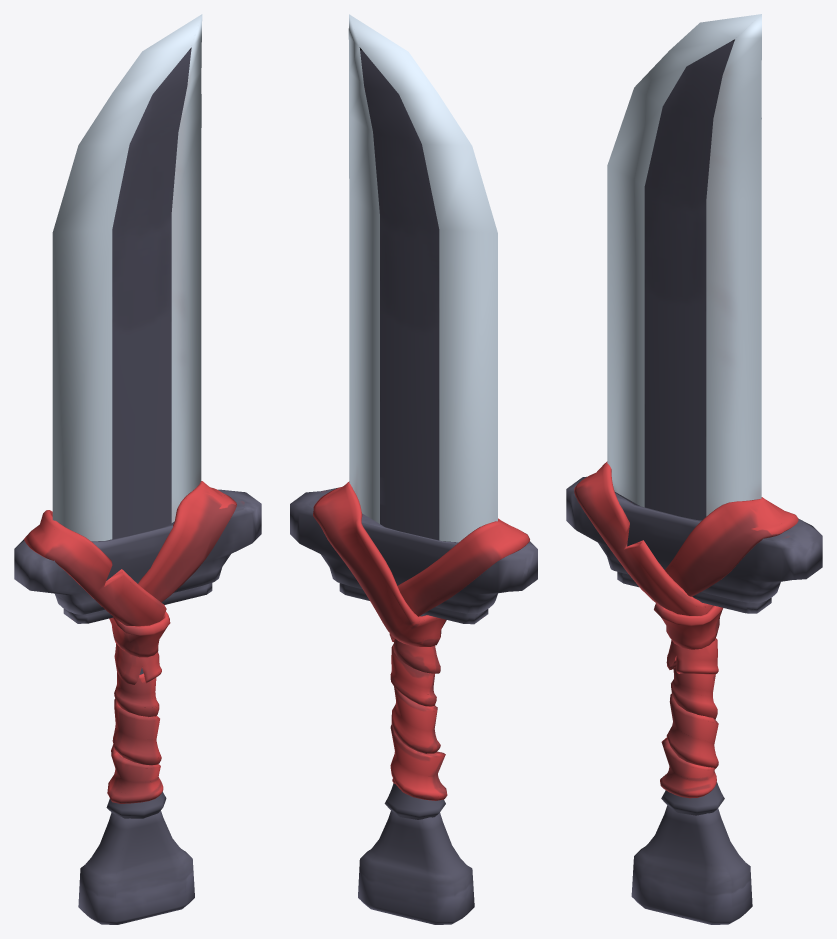
The model's file is EspadaMedia.fbx.
3 renders of one model, left to right at view 1: azimuth 30°, elevation 25°; view 2: azimuth 150°, elevation 25°; view 3: azimuth 330°, elevation 25°, orthographic. The views are drawn at different scales.
Visible parts, largest first — view 1: Plane.000, Cube.001, Cube, Plane.001, Circle.001; view 2: Plane.000, Cube.001, Cube, Plane.001, Circle.001; view 3: Plane.000, Cube.001, Cube, Plane.001, Circle.001.
Boxes of the visible parts, x1,y1,x2,y2 form: Plane.000: (52,14,202,541); Cube.001: (24,481,236,803); Cube: (78,810,194,924); Plane.001: (14,489,261,623); Circle.001: (106,668,166,818); Plane.000: (348,14,497,542); Cube.001: (313,481,529,800); Cube: (358,810,474,924); Plane.001: (290,487,537,624); Circle.001: (384,614,445,819); Plane.000: (607,14,761,520); Cube.001: (574,461,798,798); Cube: (631,805,752,924); Plane.001: (566,476,822,613); Circle.001: (661,781,724,815).
Size of the model in its own units: 68.1 by 246 by 20.65.
